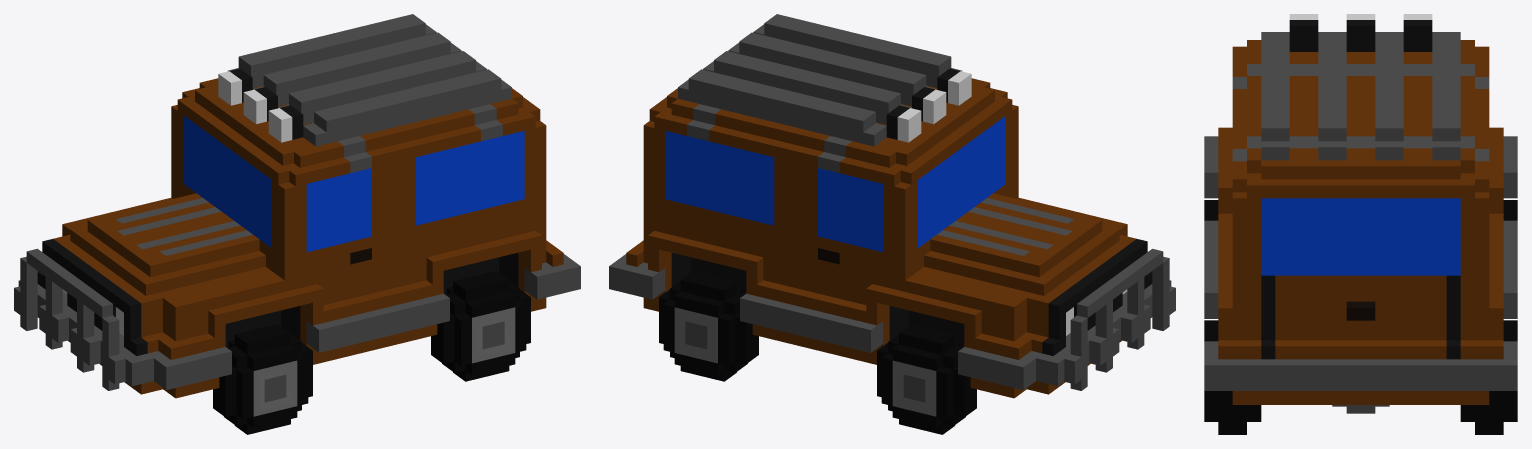
File: CartoonCars_#1.FBX
The picture shows the model from 3 angles, left to right: view 1: azimuth 30°, elevation 25°; view 2: azimuth 150°, elevation 25°; view 3: azimuth 270°, elevation 25°; orthographic projection. The views are drawn at different scales.
Parts seen in each view (by area): view 1: CCar_01, CCar_01_Wheel_FL, CCar_01_Wheel_RL; view 2: CCar_01, CCar_01_Wheel_FR, CCar_01_Wheel_RR; view 3: CCar_01, CCar_01_Wheel_RR, CCar_01_Wheel_RL, CCar_01_Wheel_FR, CCar_01_Wheel_FL.
Boxes of the visible parts, box(x1,y1,x2,y2) form: CCar_01: box(14, 14, 580, 398); CCar_01_Wheel_FL: box(213, 324, 312, 434); CCar_01_Wheel_RL: box(431, 270, 530, 381); CCar_01: box(609, 14, 1175, 398); CCar_01_Wheel_FR: box(877, 324, 976, 434); CCar_01_Wheel_RR: box(659, 270, 758, 381); CCar_01: box(1204, 14, 1517, 413); CCar_01_Wheel_RR: box(1460, 320, 1517, 434); CCar_01_Wheel_RL: box(1204, 320, 1261, 434); CCar_01_Wheel_FR: box(1503, 200, 1517, 220); CCar_01_Wheel_FL: box(1204, 200, 1218, 220).
Bounding box in the file's own units: 6229 × 3675 × 3342.
